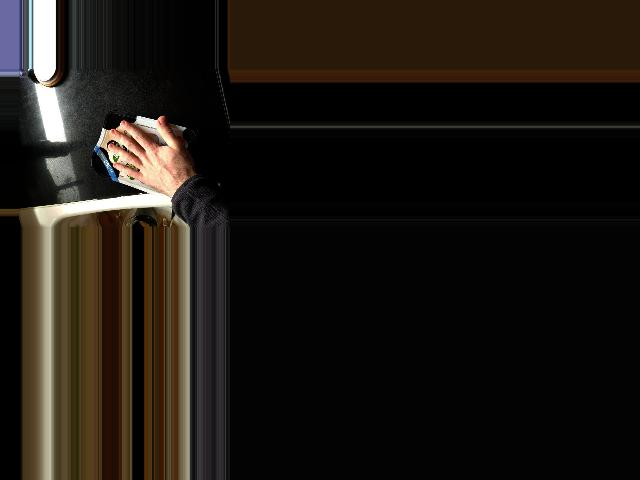cheese: (89, 108, 198, 203)
